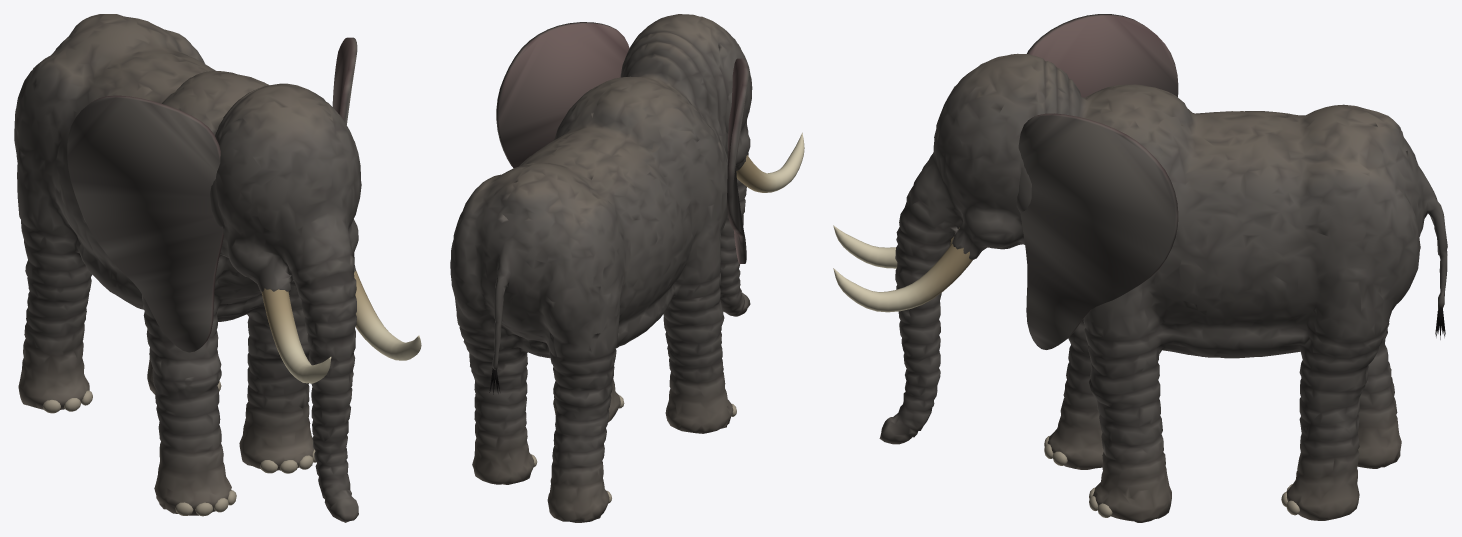
The model's file is AfricanElephant.fbx.
The picture shows the model from 3 angles, left to right: view 1: azimuth 30°, elevation 25°; view 2: azimuth 150°, elevation 25°; view 3: azimuth 270°, elevation 25°; orthographic projection. The views are drawn at different scales.
Visible parts, largest first — view 1: AfricanElephant; view 2: AfricanElephant; view 3: AfricanElephant.
Part boxes in pixels (<box>): AfricanElephant: <box>14,14,421,522</box>; AfricanElephant: <box>450,14,804,522</box>; AfricanElephant: <box>833,14,1447,522</box>.
Bounding box in the file's own units: 1.12 × 1.67 × 2.2.
